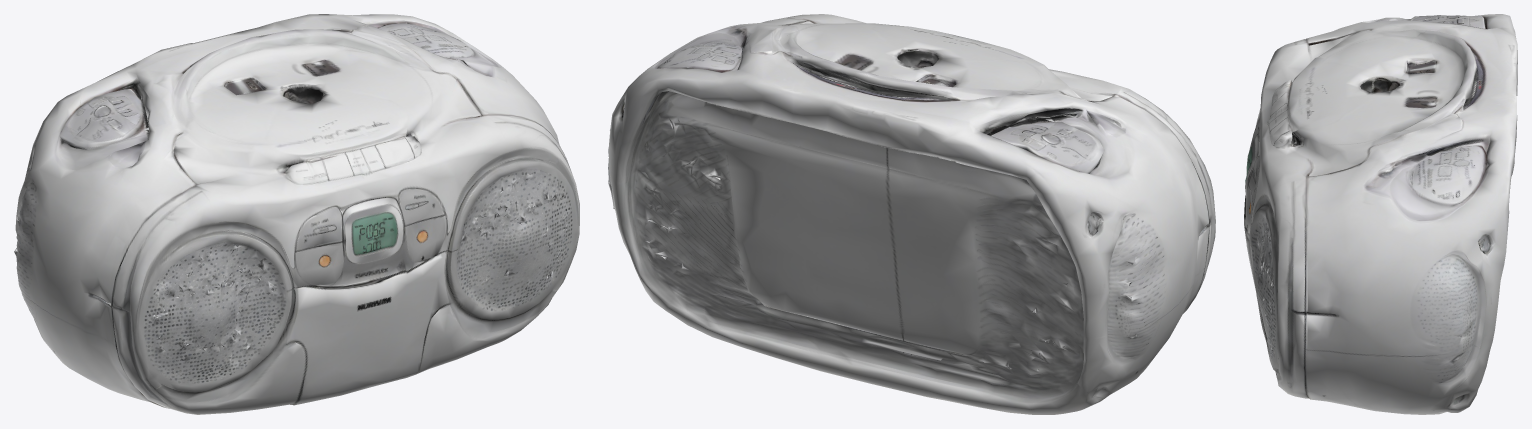
File: Philips_CD_Boombox_0530092222_texture.glb
3 views of the same model, side by side, from view 1: azimuth 30°, elevation 25°; view 2: azimuth 150°, elevation 25°; view 3: azimuth 270°, elevation 25° (orthographic). The views are drawn at different scales.
Size of the model in its own units: 2 by 1.14 by 0.9941.
Materials: 1 (1 with a texture image).
